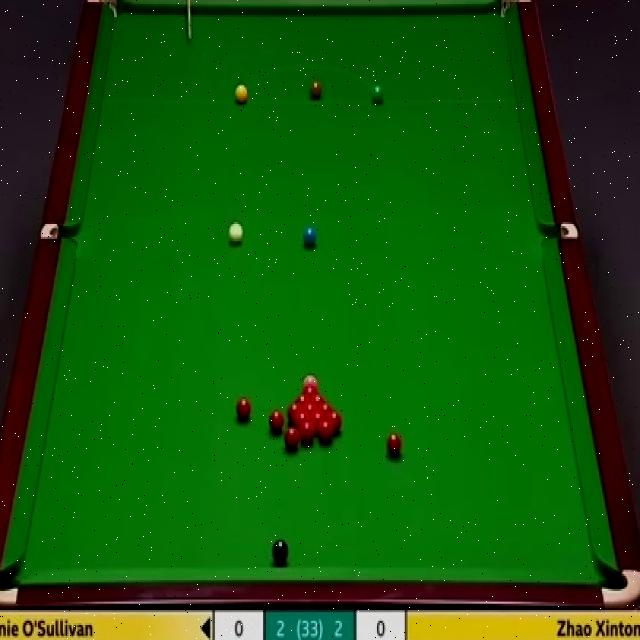black-ball: (272, 536, 289, 565)
blue-ball: (302, 225, 318, 250)
brown-ball: (308, 82, 322, 100)
green-ball: (372, 84, 384, 104)
pink-ball: (303, 372, 319, 385)
red-ball: (267, 408, 285, 437), (234, 398, 253, 425), (385, 432, 402, 460), (284, 426, 300, 454), (326, 411, 343, 434), (318, 420, 335, 443), (299, 421, 314, 446), (294, 410, 311, 432), (310, 410, 326, 432), (308, 394, 328, 408), (300, 402, 317, 413), (287, 402, 302, 414), (302, 384, 320, 394), (294, 394, 311, 404), (318, 403, 333, 413)
white-ball: (226, 220, 246, 249)
yellow-ball: (234, 82, 249, 105)
